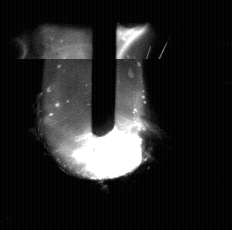arame: (92, 0, 116, 138)
poca: (45, 0, 145, 230)
